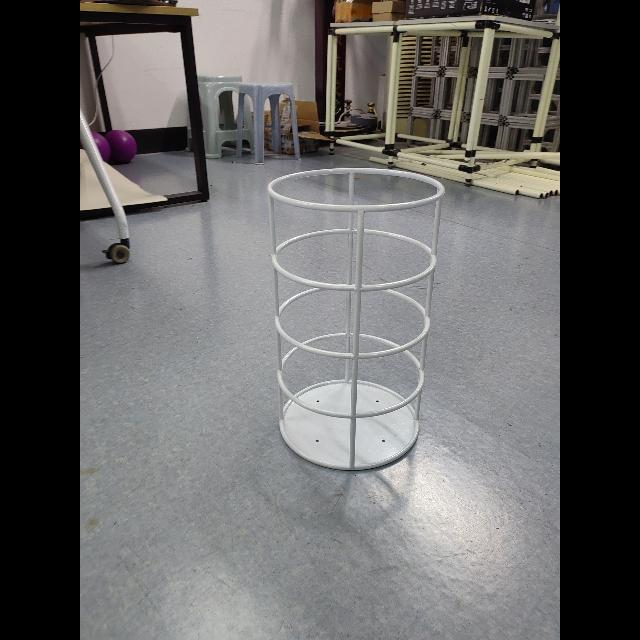S: (266, 165, 448, 473)
